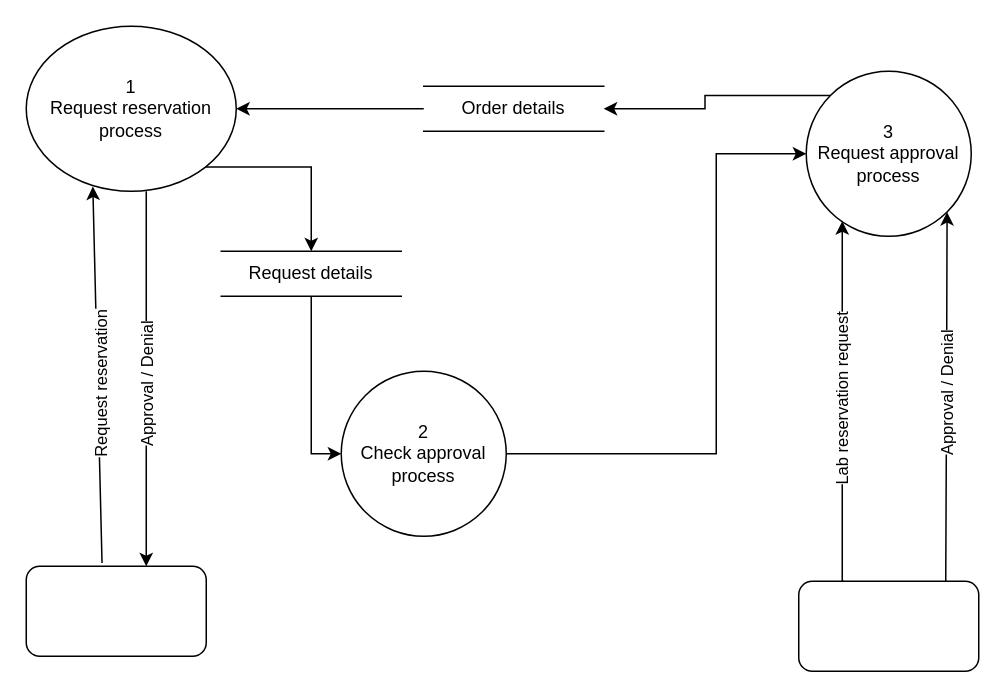
Image size: 1005x698. Some labels were removed from this diagram. Each missing label, with the centre of its shape:
Lab staff: (x=888, y=625)
Undergraduates / Postgraduates / Doctors: (x=115, y=610)
